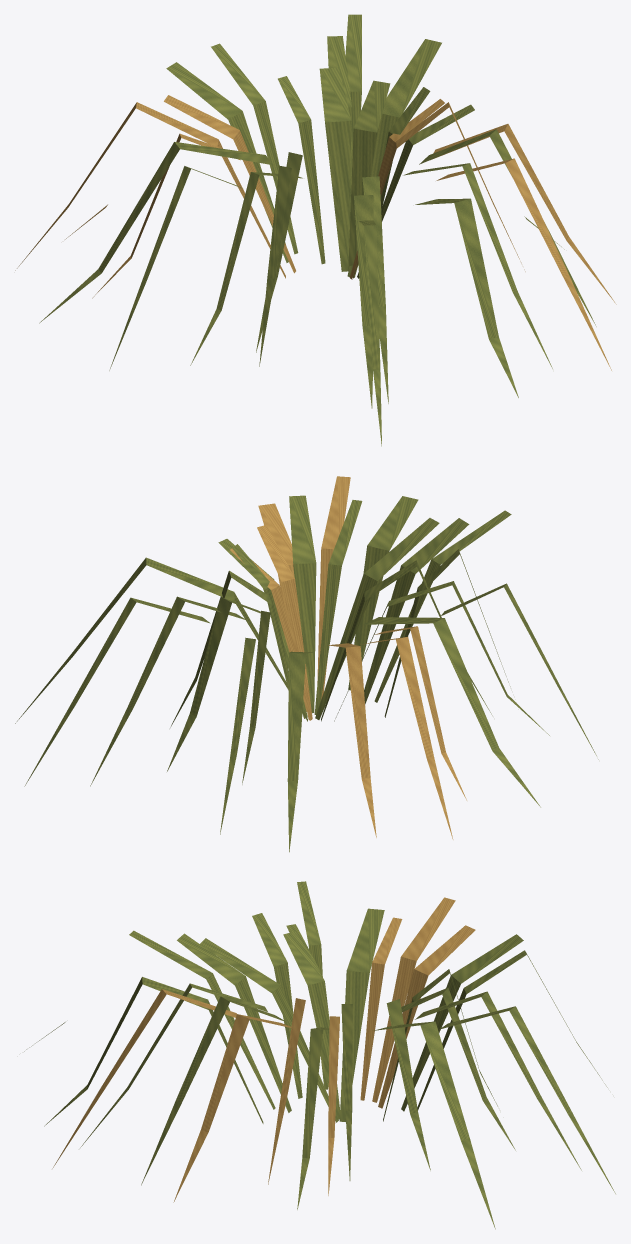
The model's file is Wild_Grass_A.glb.
3 renders of one model, top to bottom at view 1: azimuth 30°, elevation 25°; view 2: azimuth 150°, elevation 25°; view 3: azimuth 270°, elevation 25°, orthographic. The views are drawn at different scales.
Visible parts, largest first — view 1: world; view 2: world; view 3: world.
Boxes of the visible parts, <box> form: world: <box>15,14,616,446</box>; world: <box>15,476,598,852</box>; world: <box>24,881,615,1229</box>.
Bounding box in the file's own units: 0.7489 × 0.2445 × 0.8304.
1 material, 1 textured.
